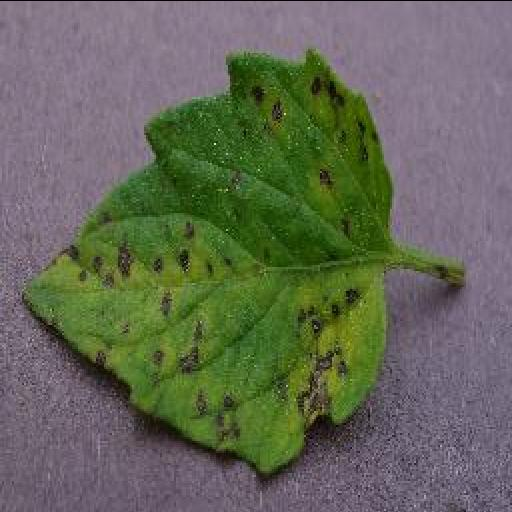disease_tomato: (23, 49, 393, 473)
